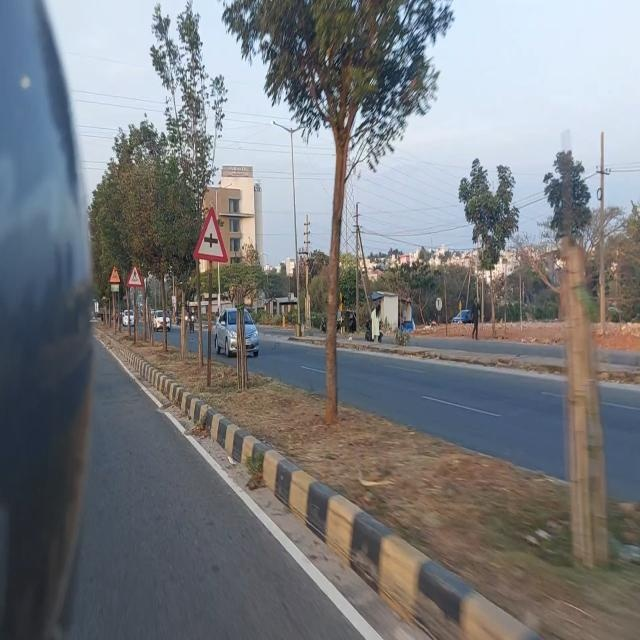bien_nguy_hiem: (194, 204, 228, 264), (127, 263, 143, 289)
